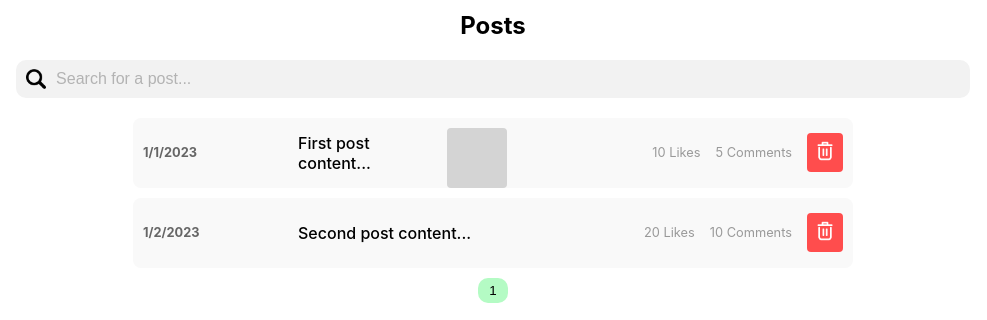
Test: UserPostTracker Component › handles search input change
Type "First" into the field with placeholder "Search for a post...".
click(503, 79); type("First")  # box [46, 60, 960, 98]
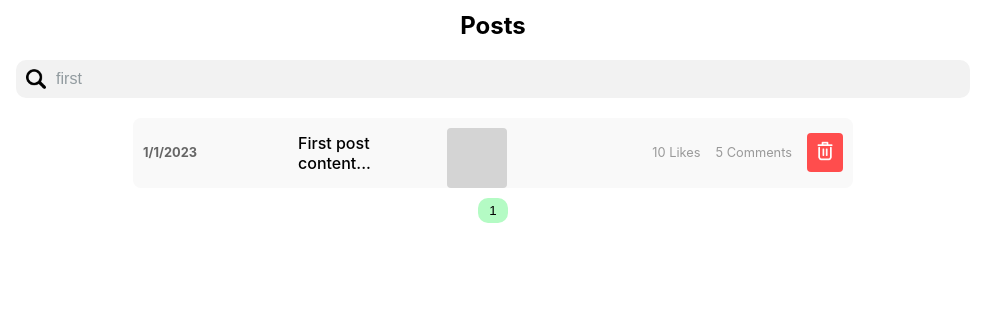
Expected: the text "Second post content..." is gone
